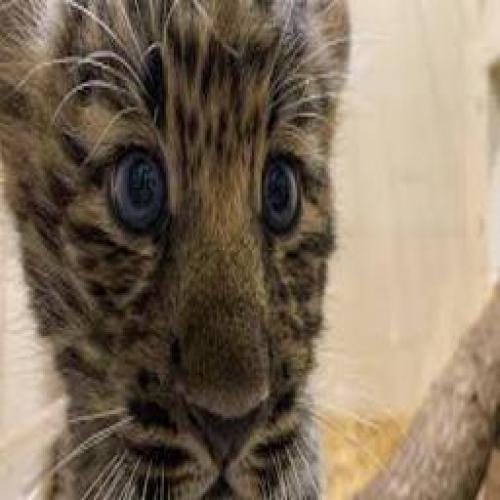amur_leopard-endangered: (0, 0, 340, 496)
